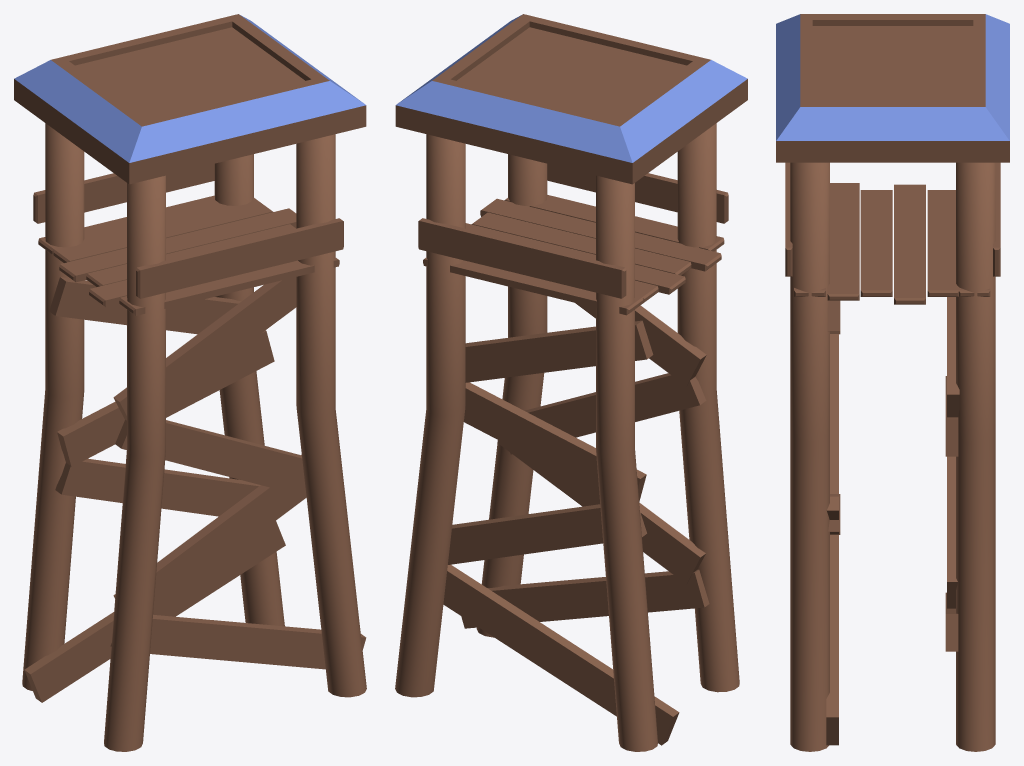
The model's file is ArcherTowerLevel1 (1).fbx.
3 views of the same model, side by side, from view 1: azimuth 30°, elevation 25°; view 2: azimuth 150°, elevation 25°; view 3: azimuth 270°, elevation 25° (orthographic).
Parts seen in each view (by area): view 1: Cube.018; view 2: Cube.018; view 3: Cube.018.
Boxes of the visible parts, box(x1,y1,x2,y2) form: Cube.018: box(14, 14, 366, 751); Cube.018: box(395, 14, 747, 751); Cube.018: box(776, 14, 1009, 751).
Bounding box in the file's own units: 125 × 173 × 371.
